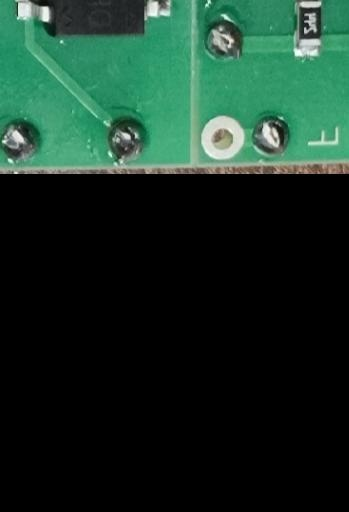chip-resistor: (291, 0, 321, 60)
